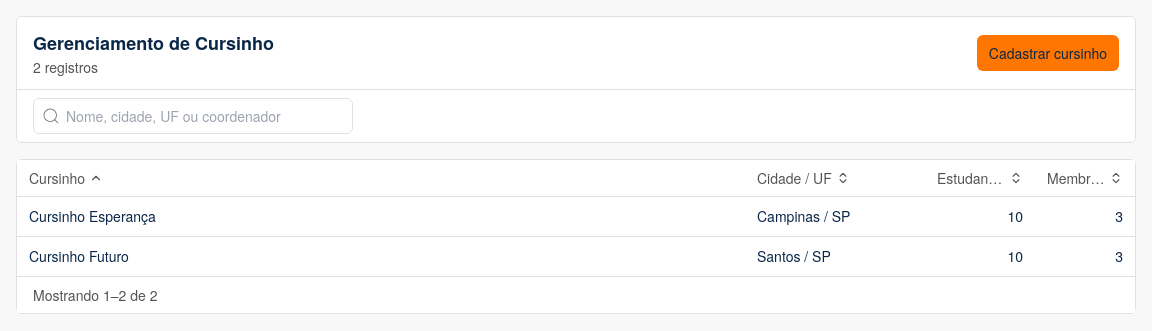
Test: Gerenciamento de Cursinho (V2) › a busca filtra por nome ou cidade
Expected: the text "Cursinho Esperança" is shown, [29,206,156,226]
Type "santos" into the search field with placeholder "Nome, cidade, UF ou coordenador" at (193, 116), box [33,98,353,134]
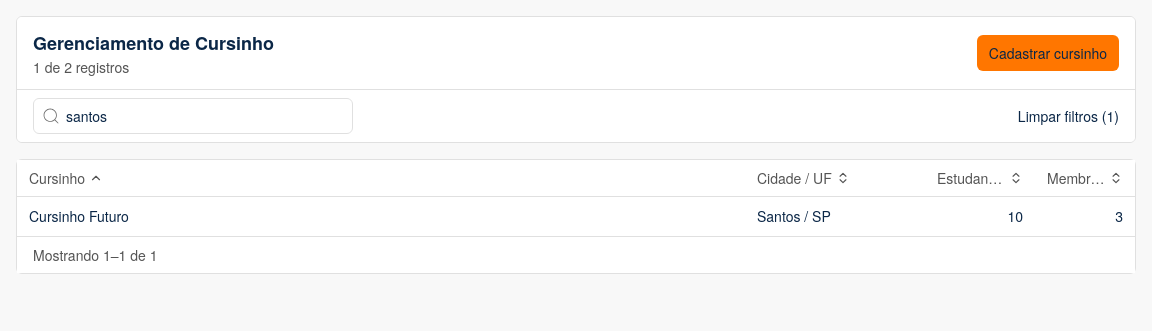
Expected: the text "Cursinho Futuro" is shown, [29,206,129,226]
Now the button "Cursinho Esperança" is gone
